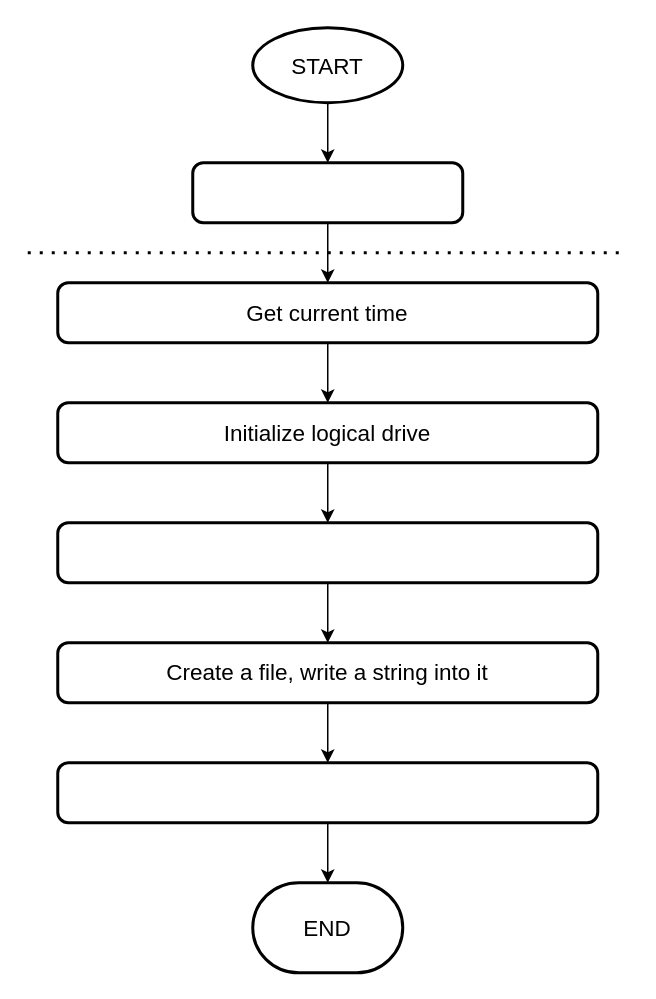
Some shapes in this 656 by 999 pixel diagram are drawn without their labels. The shapes that lost their labels are listed below. From the top down, each one's centre as x and y in pixels, then its label:
the point at 327,192: Initialize system
the point at 327,552: Show logical drive status
the point at 327,792: Read back the content and print on the console
